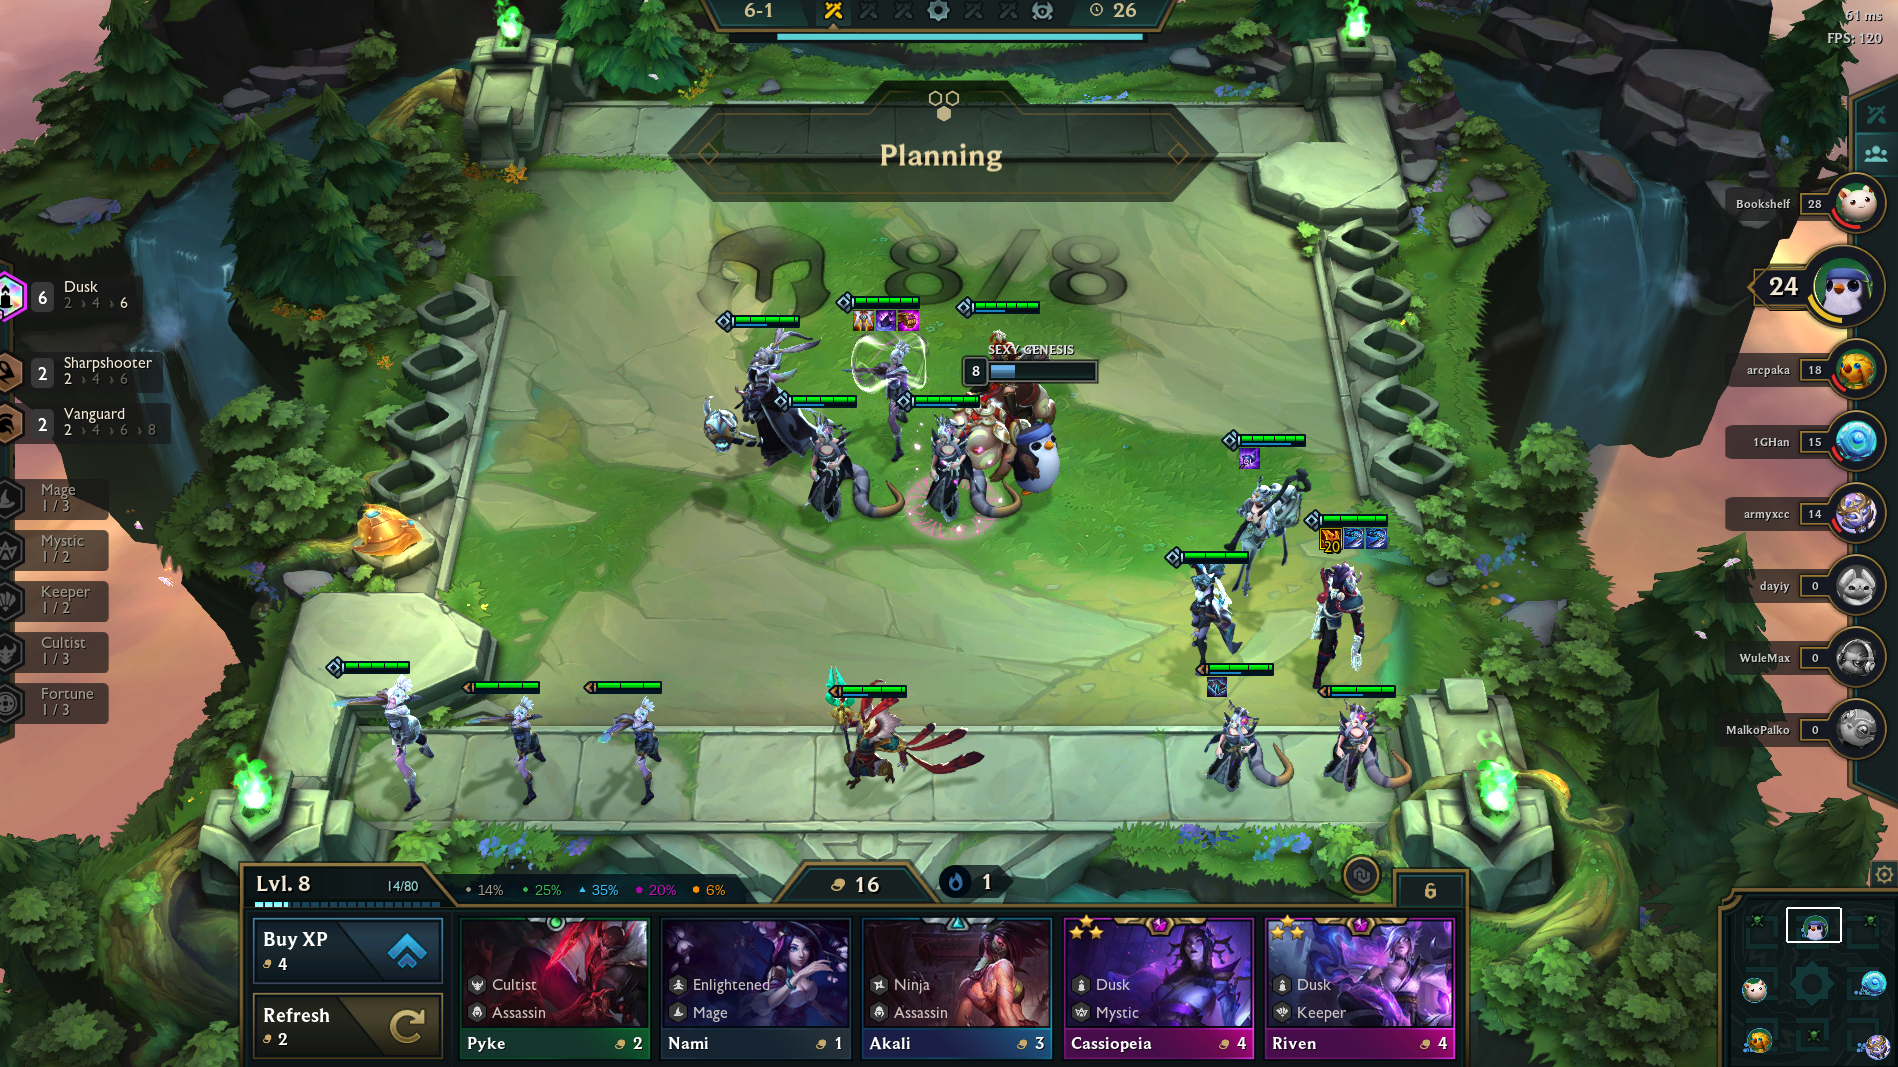1star_azir: (811, 651, 995, 817)
1star_cassiopeia: (1178, 655, 1309, 806), (1304, 672, 1426, 813)
1star_riven: (450, 666, 561, 823), (574, 663, 684, 819)
2star_cassiopeia: (763, 380, 918, 541), (888, 382, 1043, 542)
2star_jhin: (1291, 502, 1403, 707)
2star_lillia: (1218, 417, 1324, 602)
2star_riven: (317, 637, 451, 830), (817, 280, 936, 474)
2star_sejuani: (933, 292, 1066, 491)
2star_thresh: (683, 291, 845, 489)
2star_vayne: (1152, 535, 1264, 690)
item_deathblade: (1317, 525, 1344, 554)
item_ga: (849, 305, 877, 334)
item_giantslayer: (1339, 522, 1367, 552), (1364, 522, 1391, 552)
item_jeweledgauntlet: (894, 306, 922, 335)
item_luden: (1234, 444, 1262, 473)
item_morello: (1201, 671, 1229, 700)
item_zzrot: (871, 306, 899, 335)
trait_cultist1: (1, 621, 128, 679)
trait_dusk6: (1, 264, 186, 328)
trait_dusk_chosen: (1, 264, 29, 327)
trait_fortune1: (1, 674, 128, 731)
trait_keeper1: (1, 572, 129, 629)
trait_mage1: (1, 469, 128, 526)
trait_mystic1: (1, 521, 128, 578)
trait_sharpshooter2: (1, 347, 186, 399)
trait_vanguard2: (1, 399, 186, 452)
